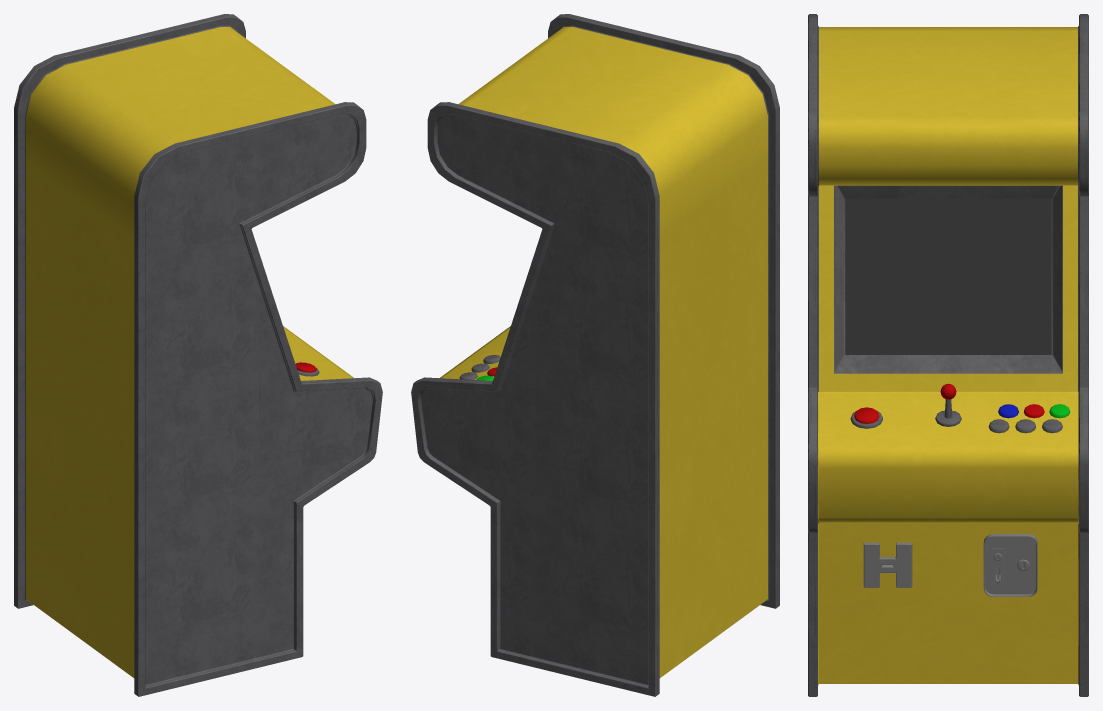
The model's file is Arcade_Machine.glb.
3 renders of one model, left to right at view 1: azimuth 30°, elevation 25°; view 2: azimuth 150°, elevation 25°; view 3: azimuth 270°, elevation 25°, orthographic. The views are drawn at different scales.
Parts seen in each view (by area): view 1: Arcade_Machine; view 2: Arcade_Machine; view 3: Arcade_Machine.
Boxes of the visible parts, box(x1,y1,x2,y2) form: Arcade_Machine: box(14, 14, 382, 696); Arcade_Machine: box(411, 14, 779, 696); Arcade_Machine: box(808, 14, 1088, 696).
Size of the model in its own units: 0.9477 by 2 by 0.835.
1 material, 1 textured.
